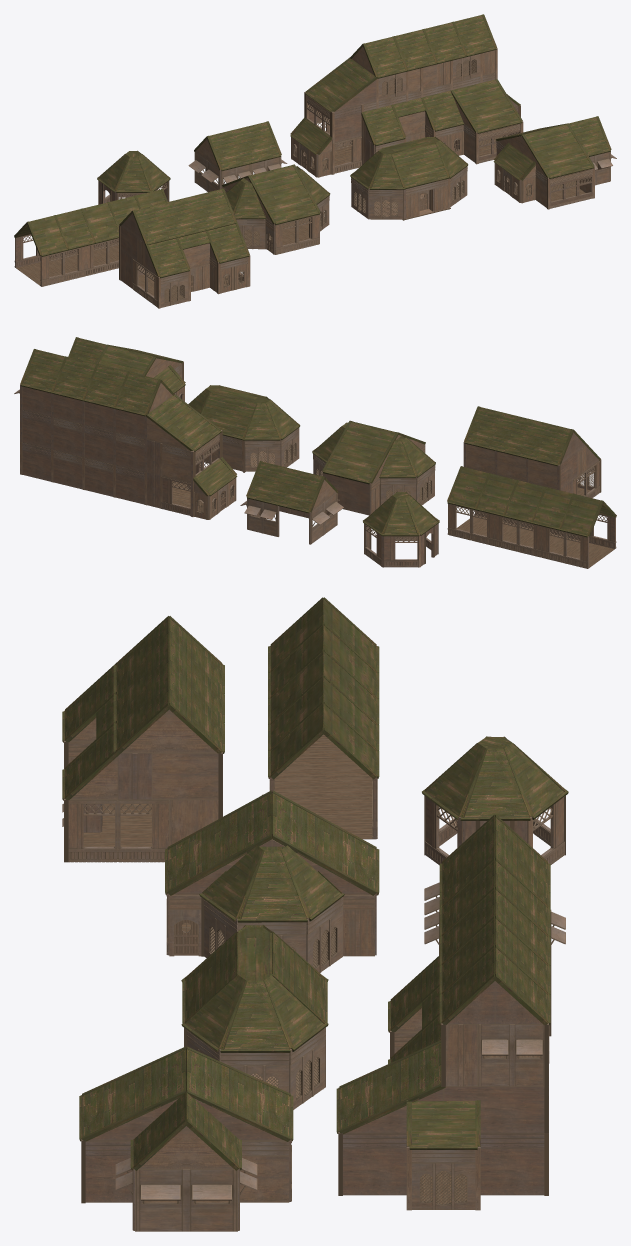
File: Woodelf_Houses_1A1.fbx
3 renders of one model, top to bottom at view 1: azimuth 30°, elevation 25°; view 2: azimuth 150°, elevation 25°; view 3: azimuth 270°, elevation 25°, orthographic. The views are drawn at different scales.
Visible parts, largest first — view 1: Woodelf_House_Large_A, Woodelf_House_1A1, Woodelf_House_1A4, Woodelf_House_1A2, Woodelf_Fancy_Bridge_A, Woodelf_House_1A3, Woodelf_Storage_Shack_A, Woodelf_Fancy_Gazebo_A; view 2: Woodelf_House_Large_A, Woodelf_Fancy_Bridge_A, Woodelf_House_1A1, Woodelf_House_1A3, Woodelf_House_1A2, Woodelf_Storage_Shack_A, Woodelf_Fancy_Gazebo_A, Woodelf_House_1A4; view 3: Woodelf_House_Large_A, Woodelf_House_1A1, Woodelf_House_1A4, Woodelf_House_1A3, Woodelf_Fancy_Bridge_A, Woodelf_House_1A2, Woodelf_Fancy_Gazebo_A, Woodelf_Storage_Shack_A.
Part boxes in pixels (x1,y1,x2,y2): Woodelf_House_Large_A: (290, 14, 523, 177); Woodelf_House_1A1: (119, 188, 250, 308); Woodelf_House_1A4: (493, 116, 616, 209); Woodelf_House_1A2: (350, 136, 468, 220); Woodelf_Fancy_Bridge_A: (14, 189, 167, 286); Woodelf_House_1A3: (222, 164, 330, 254); Woodelf_Storage_Shack_A: (188, 121, 287, 192); Woodelf_Fancy_Gazebo_A: (97, 150, 170, 204); Woodelf_House_Large_A: (14, 349, 237, 519); Woodelf_Fancy_Bridge_A: (447, 466, 616, 568); Woodelf_House_1A1: (463, 406, 601, 498); Woodelf_House_1A3: (312, 420, 435, 515); Woodelf_House_1A2: (188, 385, 300, 472); Woodelf_Storage_Shack_A: (240, 461, 343, 544); Woodelf_Fancy_Gazebo_A: (363, 492, 439, 567); Woodelf_House_1A4: (68, 337, 185, 401); Woodelf_House_Large_A: (336, 858, 551, 1210); Woodelf_House_1A1: (62, 616, 224, 862); Woodelf_House_1A4: (79, 1046, 293, 1231); Woodelf_House_1A3: (165, 790, 379, 972); Woodelf_Fancy_Bridge_A: (268, 597, 379, 839); Woodelf_House_1A2: (181, 925, 328, 1109); Woodelf_Fancy_Gazebo_A: (422, 736, 568, 865); Woodelf_Storage_Shack_A: (424, 814, 565, 944).
Size of the model in its own units: 7326 by 1432 by 2954.
